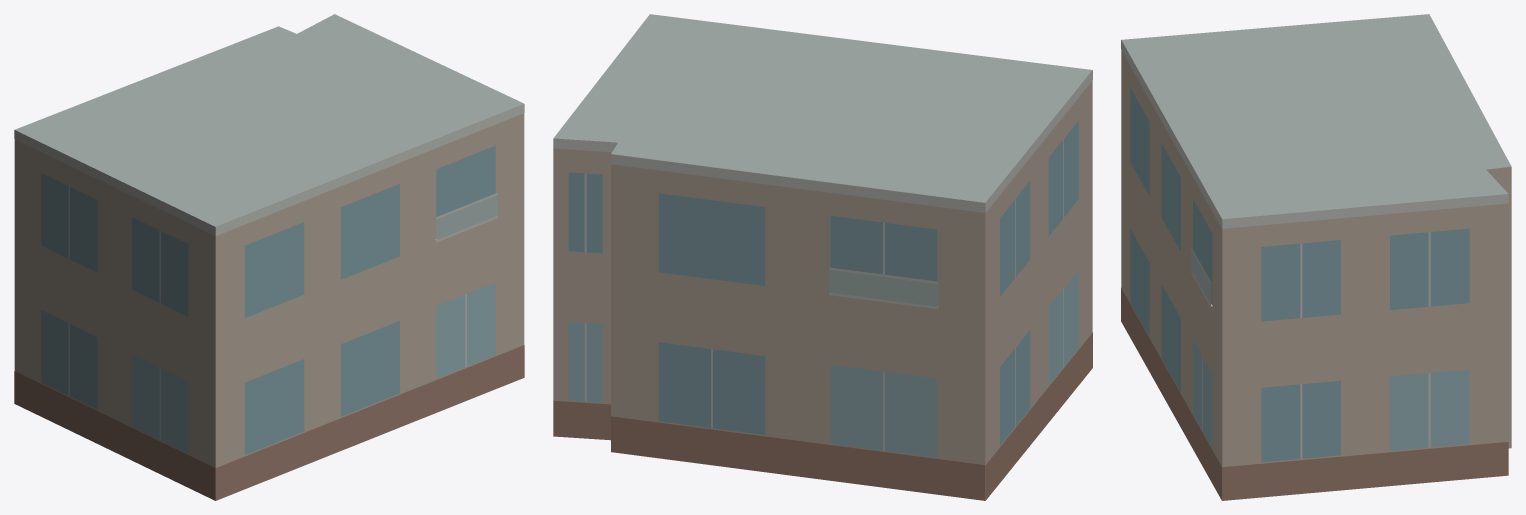
File: survey-upis-32496630.glb
3 renders of one model, left to right at view 1: azimuth 30°, elevation 25°; view 2: azimuth 150°, elevation 25°; view 3: azimuth 270°, elevation 25°, orthographic. The views are drawn at different scales.
Parts seen in each view (by area): view 1: survey-upis-32496630.tmp; view 2: survey-upis-32496630.tmp; view 3: survey-upis-32496630.tmp.
Part boxes in pixels (<box>): survey-upis-32496630.tmp: <box>14,14,524,500</box>; survey-upis-32496630.tmp: <box>553,14,1092,500</box>; survey-upis-32496630.tmp: <box>1121,14,1511,500</box>.
Bounding box in the file's own units: 11.27 × 7.2 × 9.06.
